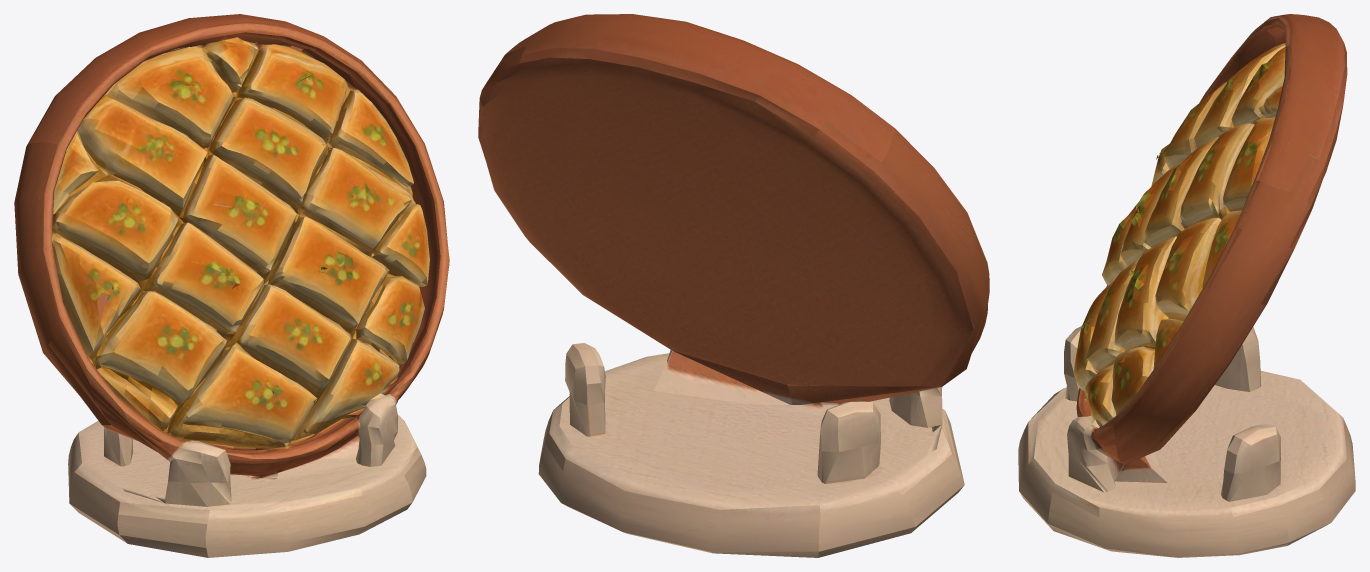
Rendered from baklava.glb.
3 views of the same model, side by side, from view 1: azimuth 30°, elevation 25°; view 2: azimuth 150°, elevation 25°; view 3: azimuth 270°, elevation 25° (orthographic). The views are drawn at different scales.
Visible parts, largest first — view 1: Mesh0; view 2: Mesh0; view 3: Mesh0.
Part boxes in pixels (left/top/right/bottom): Mesh0: left=14, top=14, right=449, bottom=557; Mesh0: left=478, top=14, right=989, bottom=557; Mesh0: left=1018, top=14, right=1355, bottom=557.
Bounding box in the file's own units: 1.9 × 1.88 × 1.3.
Materials: 1 (1 with a texture image).
